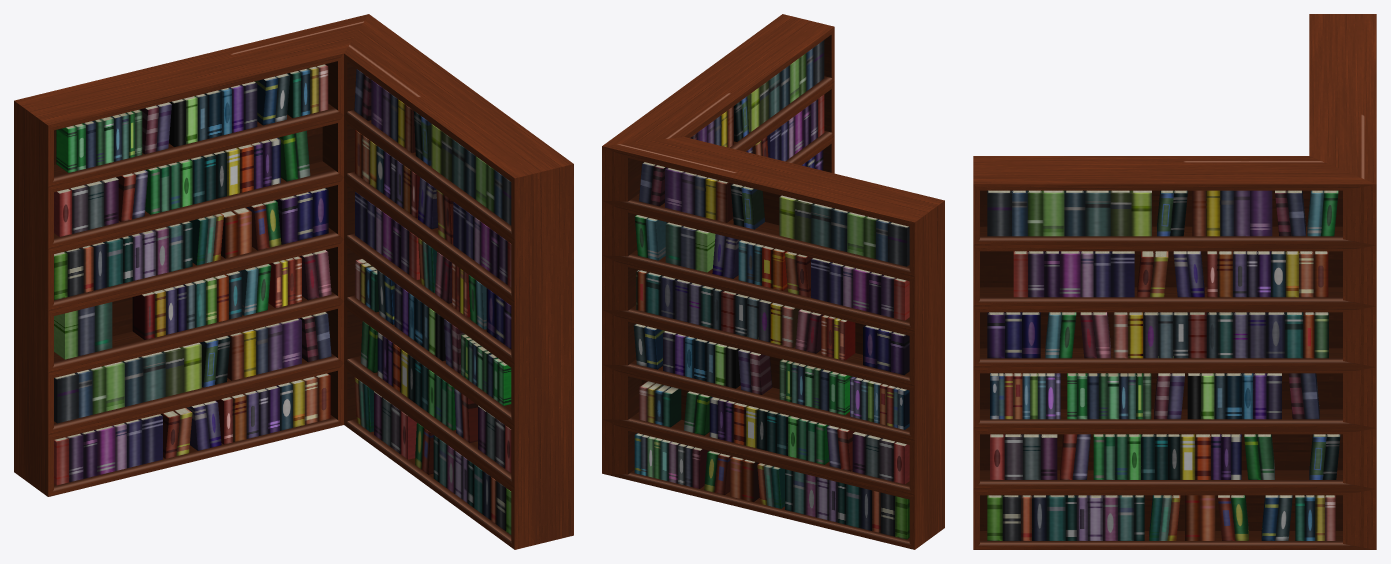
Rendered from LibraryBookshelf02.FBX.
3 views of the same model, side by side, from view 1: azimuth 30°, elevation 25°; view 2: azimuth 150°, elevation 25°; view 3: azimuth 270°, elevation 25° (orthographic). The views are drawn at different scales.
Visible parts, largest first — view 1: LibraryBookshelf02, Bookshelf02_Books01; view 2: LibraryBookshelf02, Bookshelf02_Books03, Bookshelf02_Books01; view 3: Bookshelf02_Books02, LibraryBookshelf02.
Part boxes in pixels (<box>): LibraryBookshelf02: <box>14,14,573,549</box>; Bookshelf02_Books01: <box>54,64,511,534</box>; LibraryBookshelf02: <box>602,14,944,549</box>; Bookshelf02_Books03: <box>633,162,909,539</box>; Bookshelf02_Books01: <box>690,40,824,170</box>; Bookshelf02_Books02: <box>987,190,1340,540</box>; LibraryBookshelf02: <box>973,14,1376,549</box>.
Size of the model in its own units: 6 by 6 by 6.
